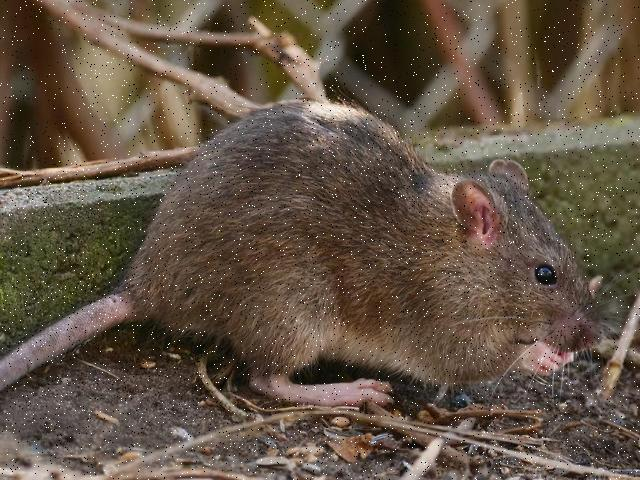Tikus: (2, 98, 602, 404)
